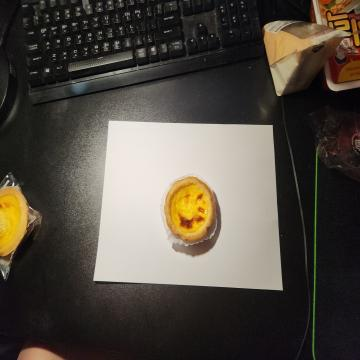EggTart: (164, 176, 216, 243)
